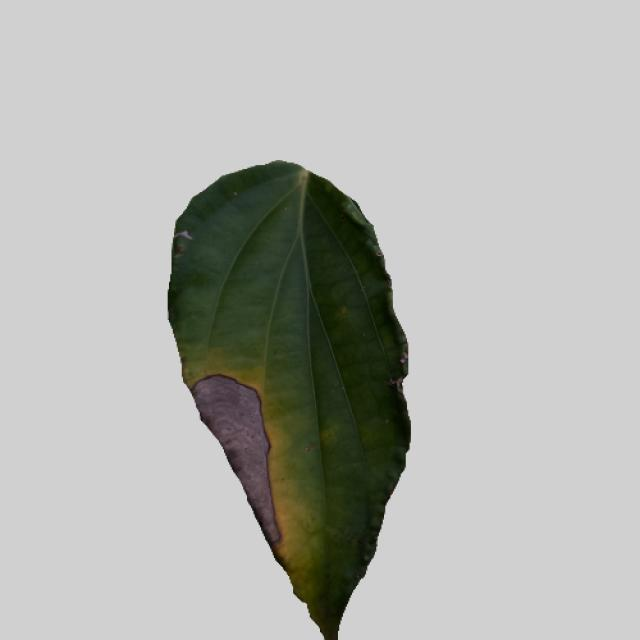leaf-blight: (152, 168, 416, 638)
